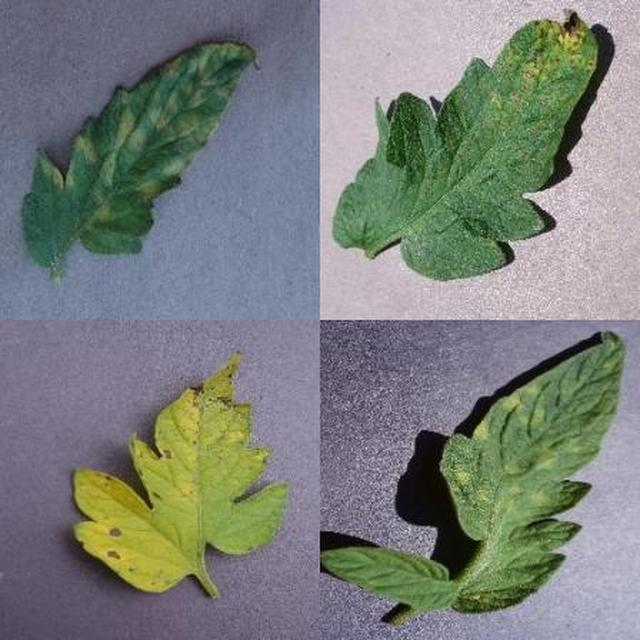Leaf Mold: (198, 208, 640, 640)
